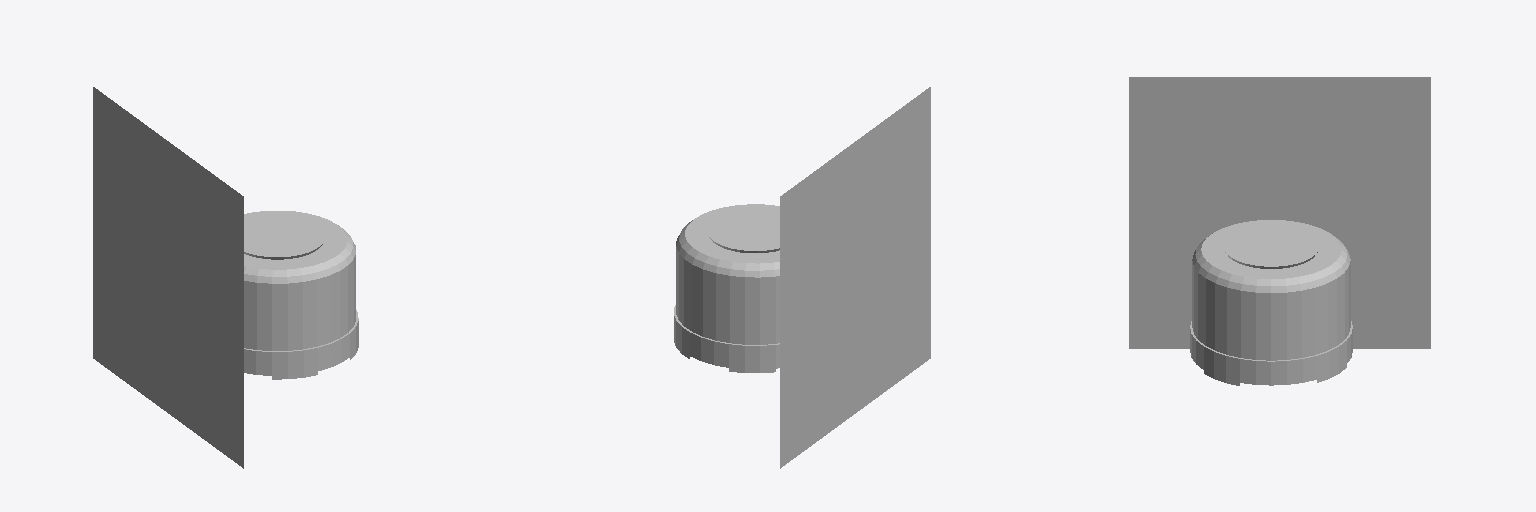
File: DIfusor de Cheiro.obj
3 views of the same model, side by side, from view 1: azimuth 30°, elevation 25°; view 2: azimuth 150°, elevation 25°; view 3: azimuth 270°, elevation 25° (orthographic).
Visible parts, largest first — view 1: difusor-aroma-eletrico-D_NQ_NP_881406-MLB[number redacted]_112017-O, Circle; view 2: difusor-aroma-eletrico-D_NQ_NP_881406-MLB[number redacted]_112017-O, Circle; view 3: difusor-aroma-eletrico-D_NQ_NP_881406-MLB[number redacted]_112017-O, Circle.
Boxes of the visible parts, x1,y1,x2,y2 form: difusor-aroma-eletrico-D_NQ_NP_881406-MLB[number redacted]_112017-O: [93, 87, 243, 468]; Circle: [244, 211, 358, 379]; difusor-aroma-eletrico-D_NQ_NP_881406-MLB[number redacted]_112017-O: [780, 87, 930, 468]; Circle: [674, 204, 779, 372]; difusor-aroma-eletrico-D_NQ_NP_881406-MLB[number redacted]_112017-O: [1129, 77, 1430, 348]; Circle: [1190, 220, 1352, 385].
Bounding box in the file's own units: 0.6743 × 1 × 1.